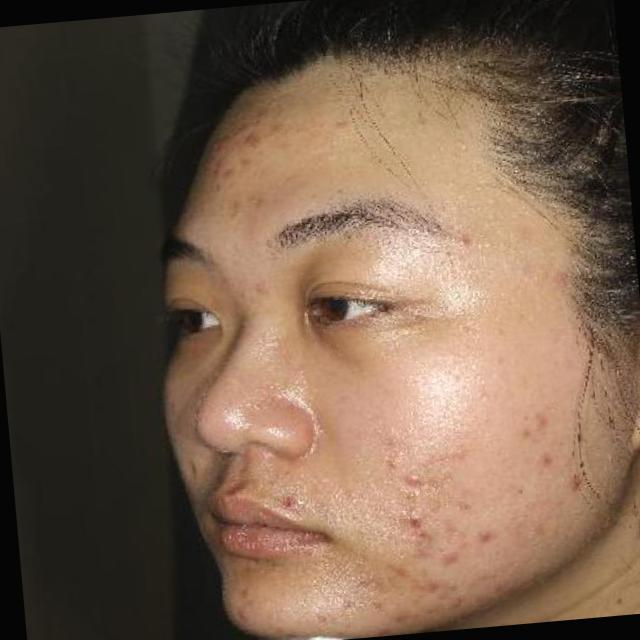darkspot: (238, 124, 274, 160), (521, 402, 558, 436), (555, 468, 595, 498), (269, 490, 312, 517), (432, 540, 464, 576), (468, 519, 504, 549), (530, 443, 562, 476), (506, 421, 540, 446), (383, 604, 412, 630)
nodules: (402, 508, 426, 534)
